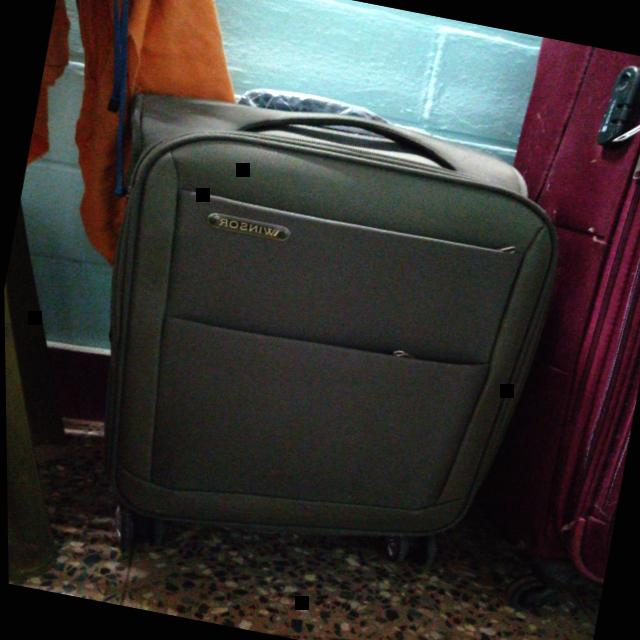luggage: (51, 72, 577, 584), (437, 37, 640, 588)
